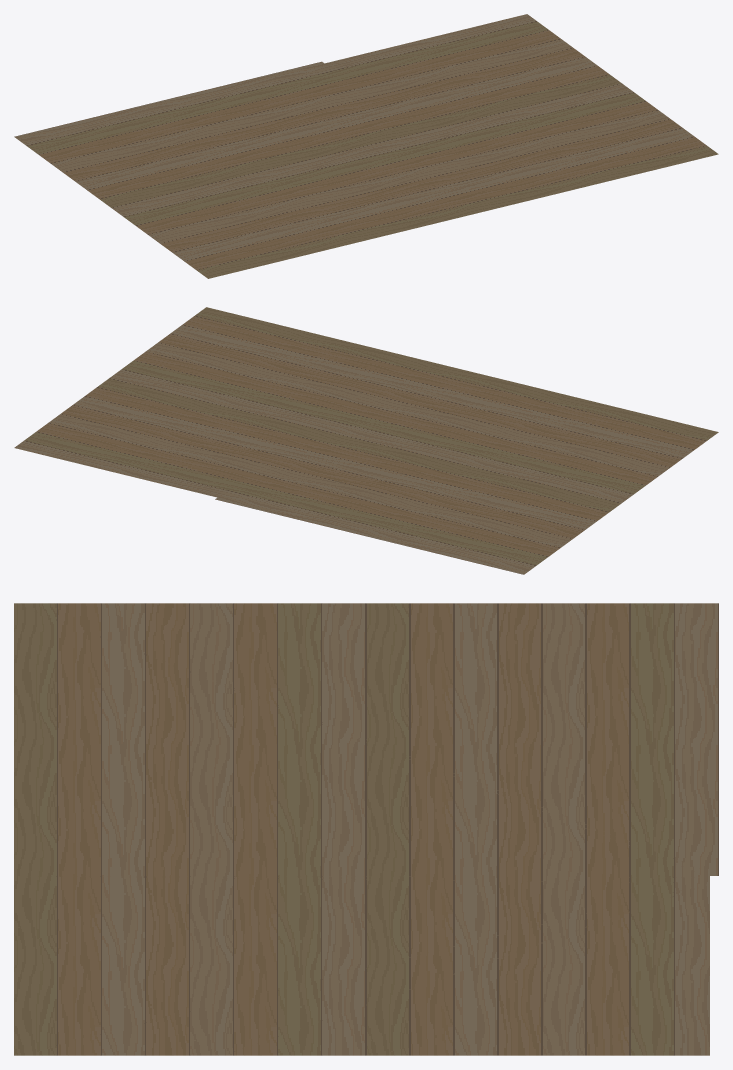
File: kd_stage_135ded_4_23_exterior_piece_1.glb
3 renders of one model, top to bottom at view 1: azimuth 30°, elevation 25°; view 2: azimuth 150°, elevation 25°; view 3: azimuth 270°, elevation 25°, orthographic. The views are drawn at different scales.
Parts seen in each view (by area): view 1: kd_stage_135ded_4_23_exterior_piece_1; view 2: kd_stage_135ded_4_23_exterior_piece_1; view 3: kd_stage_135ded_4_23_exterior_piece_1.
Boxes of the visible parts, box(x1,y1,x2,y2) form: kd_stage_135ded_4_23_exterior_piece_1: box(14, 14, 718, 278); kd_stage_135ded_4_23_exterior_piece_1: box(14, 307, 718, 574); kd_stage_135ded_4_23_exterior_piece_1: box(14, 603, 718, 1055).
Bounding box in the file's own units: 3.09 × 4.64e-05 × 2.04.
1 material, 1 textured.
